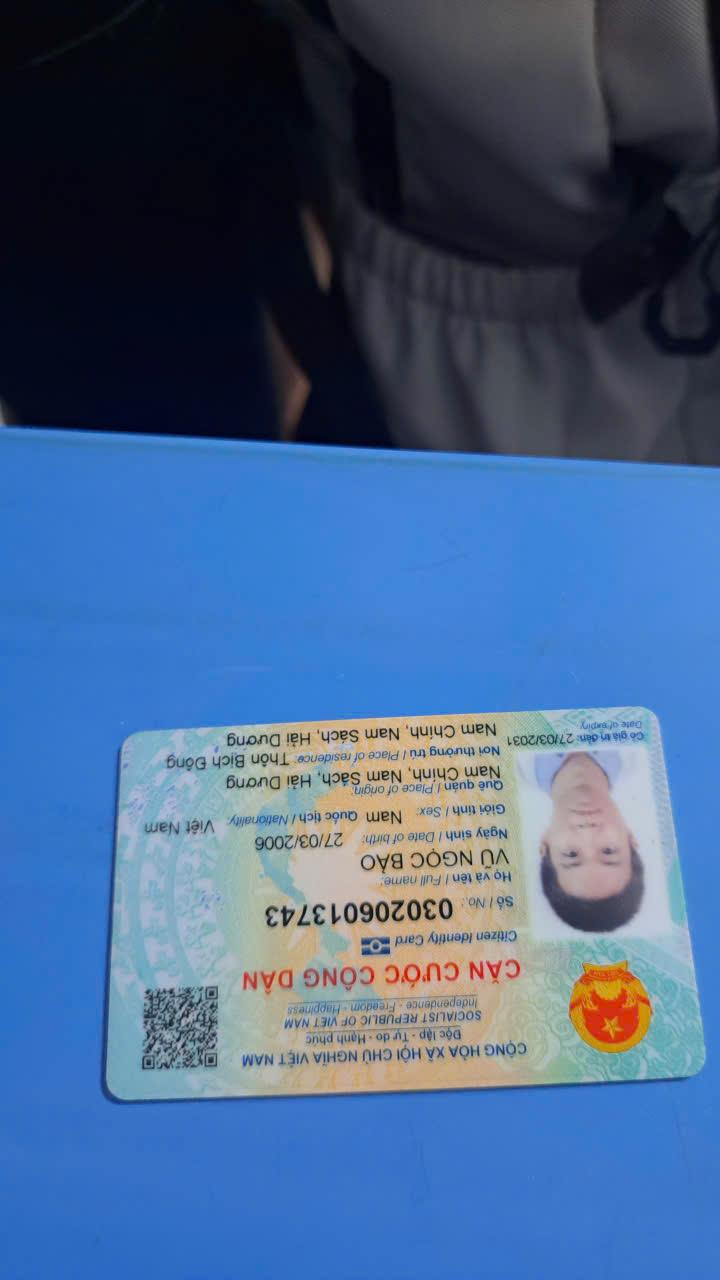cccd: (97, 681, 712, 1108)
